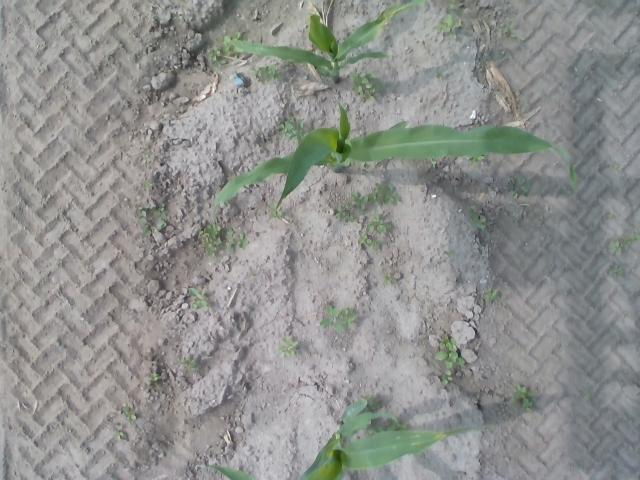Maize: (212, 100, 580, 231), (228, 0, 428, 86), (296, 396, 496, 480), (201, 465, 253, 480)
Weeds: (334, 182, 402, 224), (433, 333, 466, 386), (358, 211, 394, 251), (133, 200, 169, 240), (349, 68, 387, 104), (318, 304, 358, 334), (195, 222, 222, 258), (509, 383, 537, 412), (250, 62, 284, 85), (278, 111, 304, 140), (224, 226, 250, 255), (433, 13, 462, 38), (218, 30, 244, 56), (505, 174, 533, 198), (175, 354, 202, 377), (188, 286, 212, 311), (278, 335, 299, 359), (469, 204, 488, 230), (504, 18, 524, 40), (208, 44, 227, 67), (120, 403, 140, 422), (482, 288, 502, 306), (369, 424, 410, 432), (266, 203, 284, 220), (620, 230, 640, 245), (608, 240, 624, 258), (606, 262, 626, 276), (112, 424, 126, 440), (466, 155, 486, 166), (364, 395, 378, 409), (443, 247, 457, 260), (384, 272, 397, 284), (359, 163, 374, 173), (142, 180, 154, 192), (141, 154, 153, 166), (147, 373, 163, 382), (247, 266, 260, 277), (436, 70, 446, 80), (428, 158, 438, 168), (582, 388, 590, 400), (450, 0, 457, 11), (612, 162, 622, 169), (56, 260, 64, 268)
